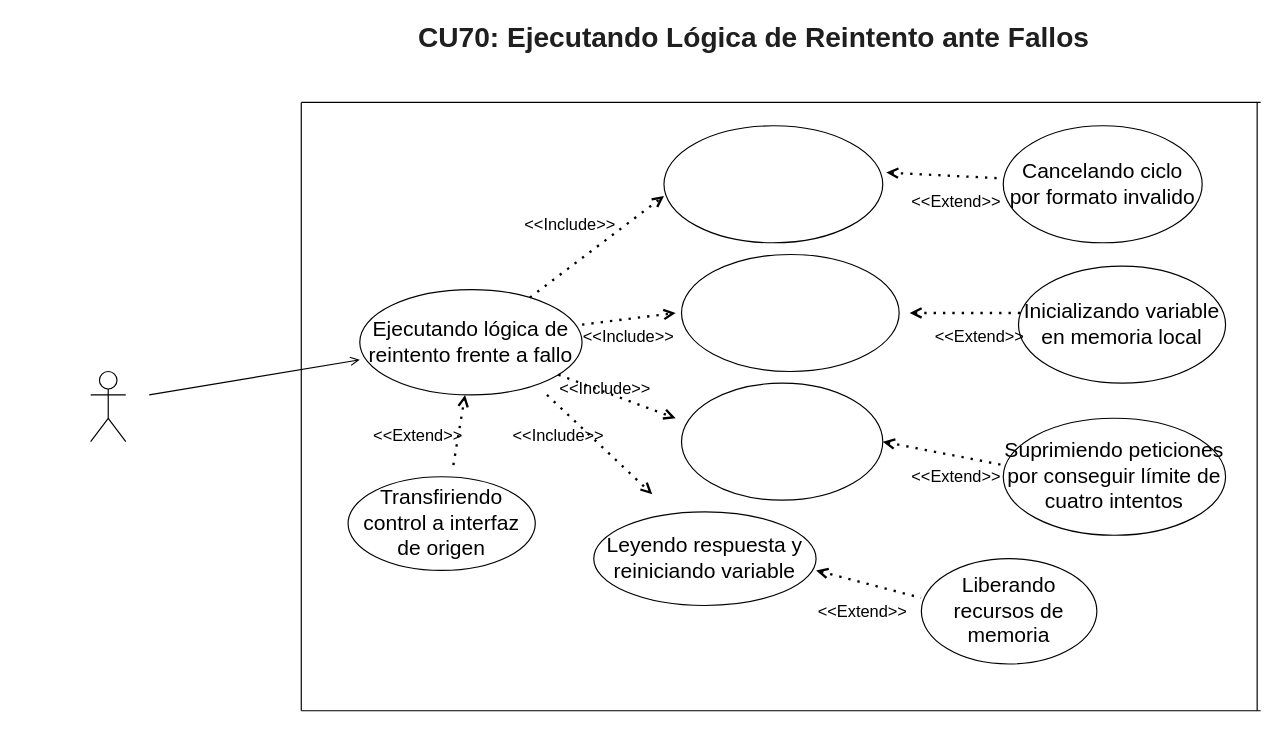
Image size: 1282x732. Some labels were removed from this diagram. Each missing label, with the centre of its shape:
Capturando error de red desde proveedor externo: the point at 773,184
Incrementando contador de iteraciones en memoria: the point at 789,312
Proveedor Externo: the point at 108,406
Retransmitiendo petición con retraso progresivo exponencial con tope: the point at 781,441
